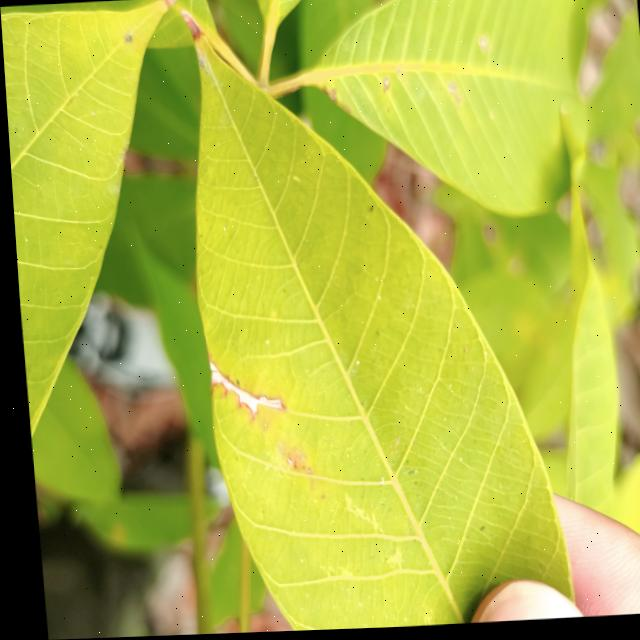Leaf-Blight: (203, 357, 277, 419), (181, 10, 204, 40), (164, 0, 181, 9)
